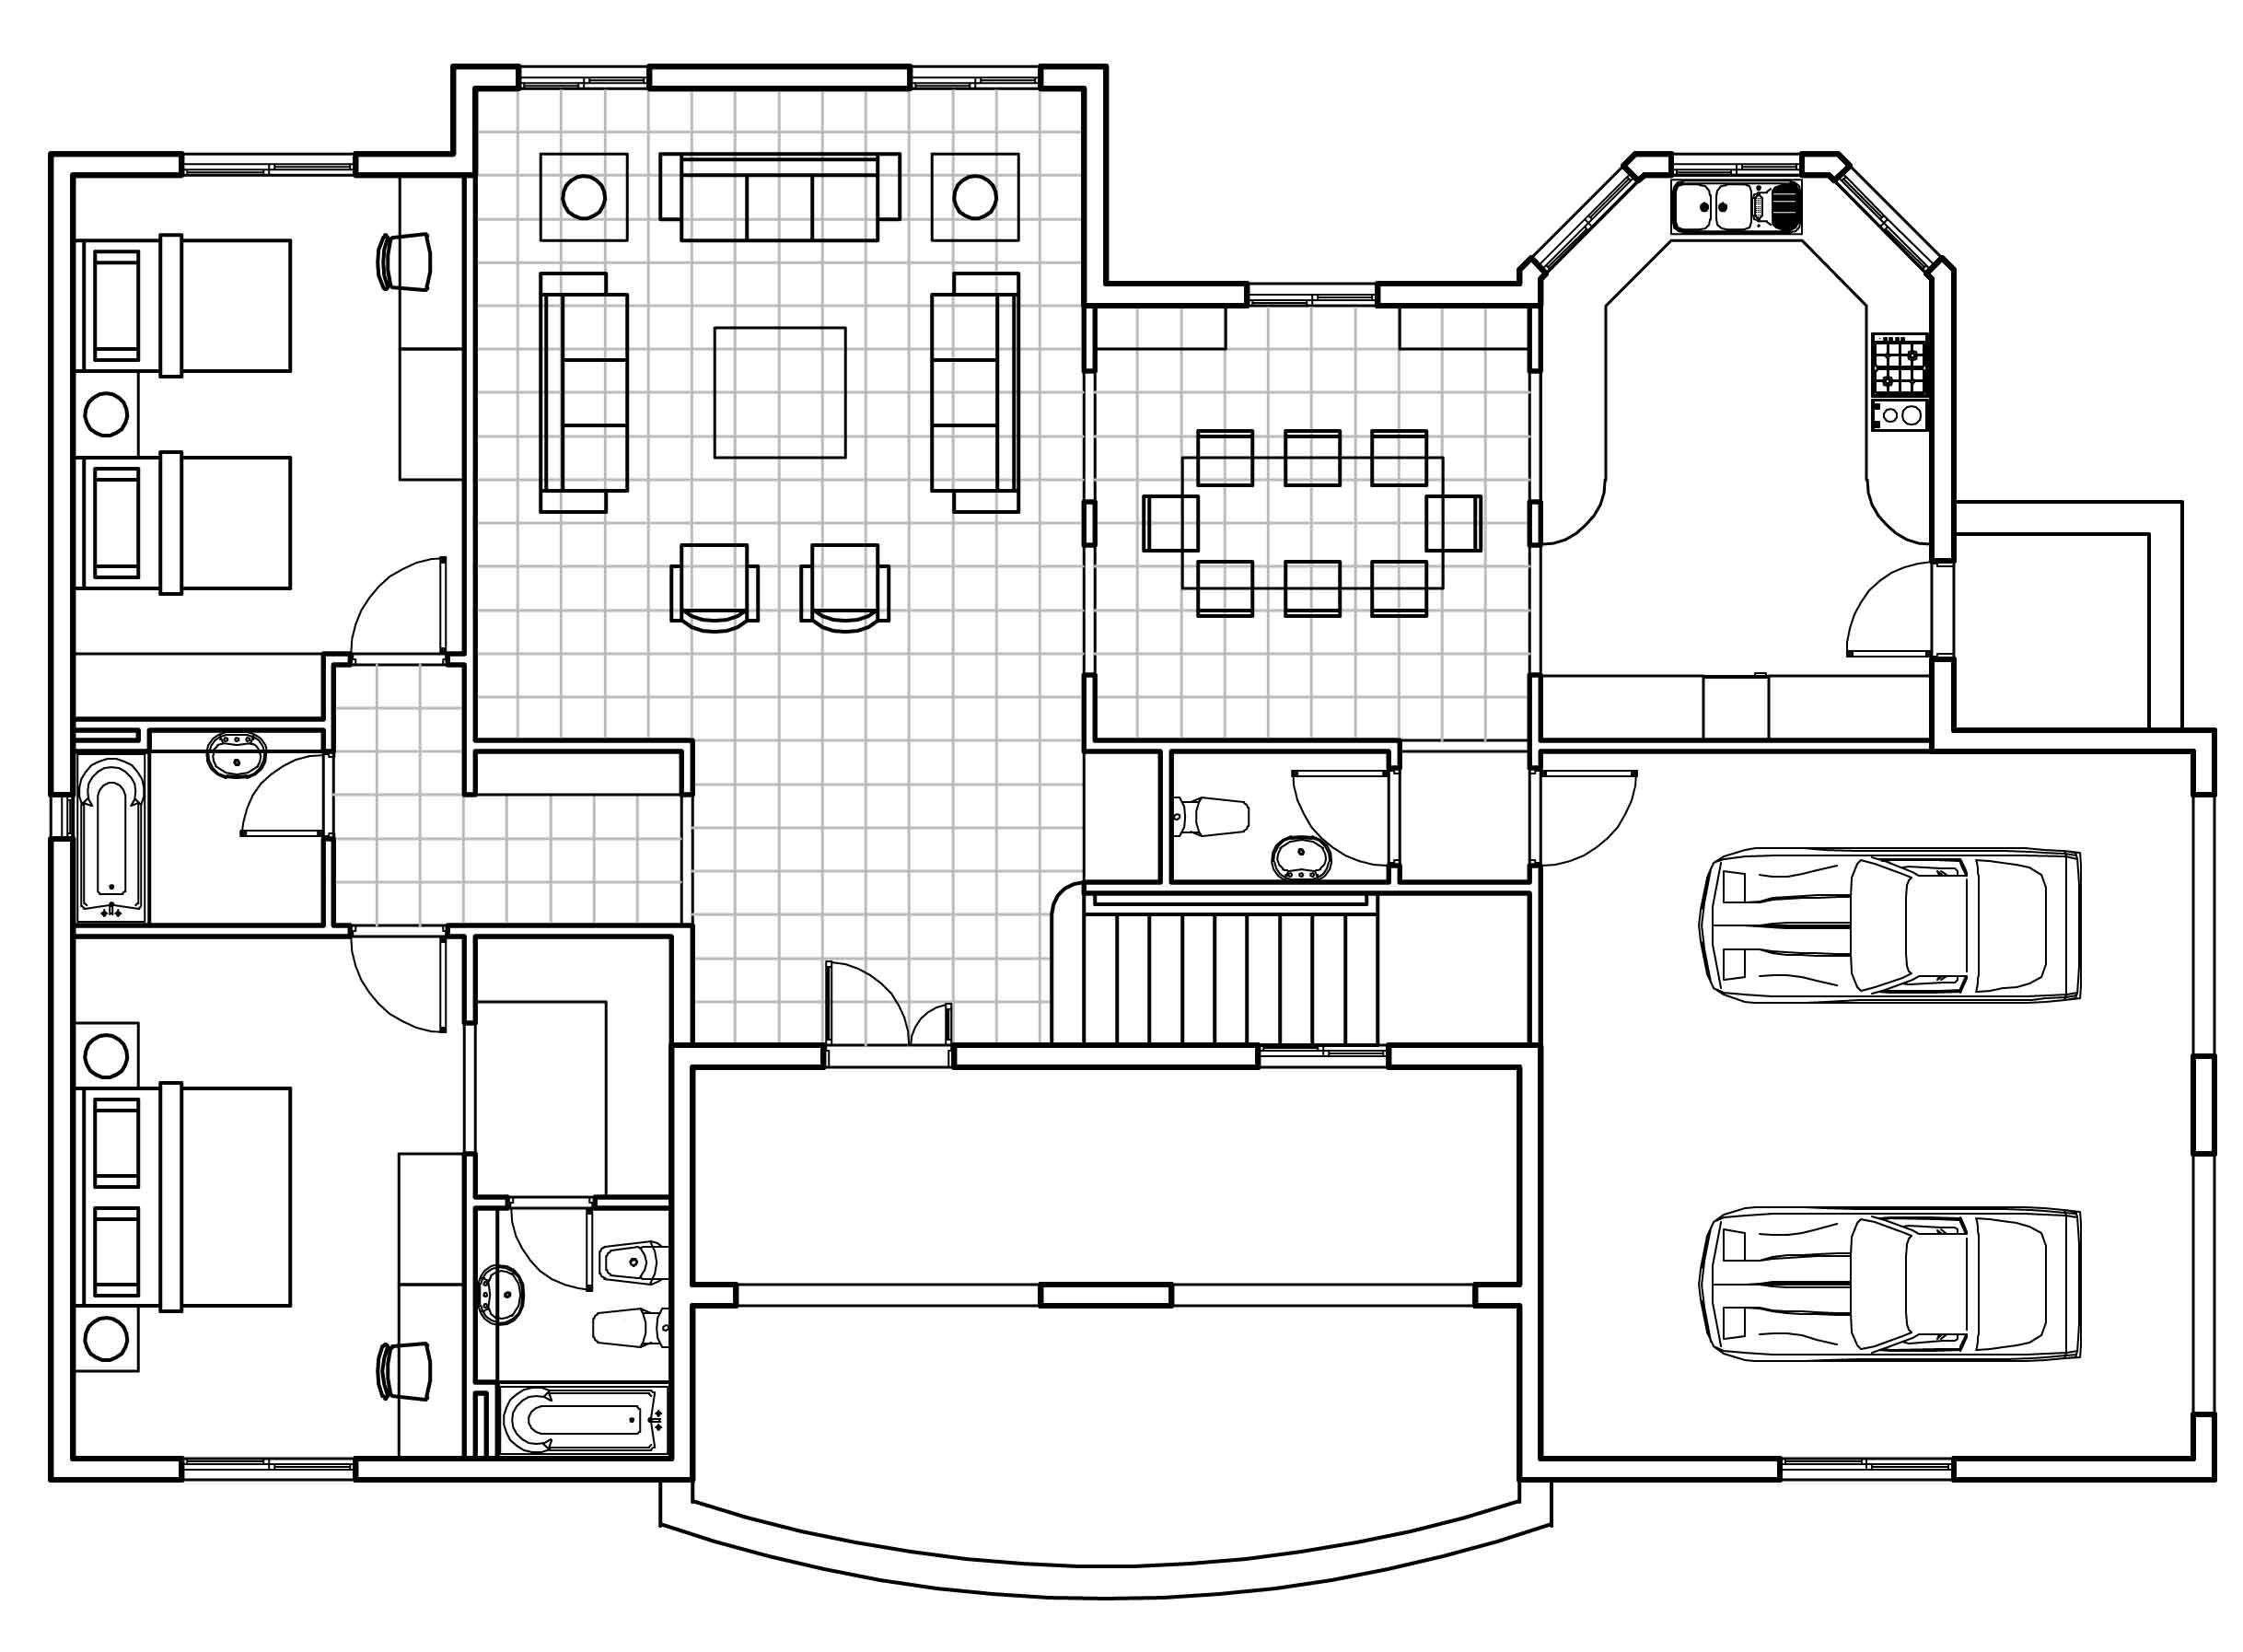bathroom: (477, 1206, 672, 1460), (76, 729, 322, 925), (1171, 750, 1389, 886)
bedroom: (72, 935, 470, 1457)
children_room: (72, 173, 470, 718)
dining_room: (1094, 308, 1533, 741)
garage: (1540, 750, 2193, 1460)
hallway: (333, 663, 1533, 1050)
kitchen: (1540, 170, 1935, 739)
living_room: (477, 87, 1087, 741)
terrace: (691, 1067, 1522, 1562)
utility_room: (1957, 532, 2147, 732)
walk_in_closet: (474, 935, 670, 1199)
